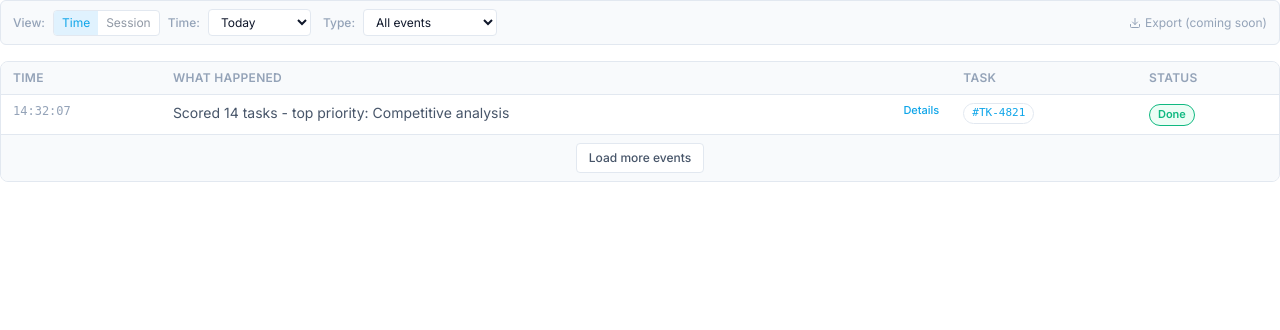
Test case: ActivityFeed › opens raw event drawer when details is clicked
Click the button "Details".
click(921, 111)  # box [903,103,939,119]
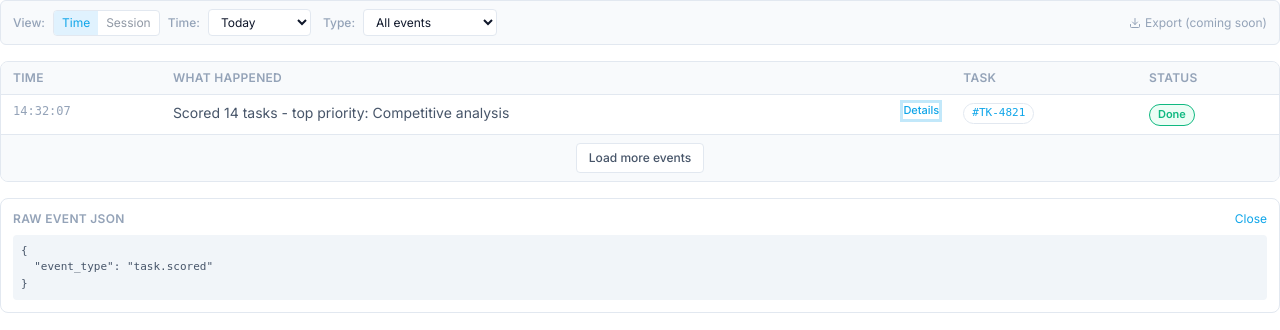
Now the element with test id "activity-raw-drawer" is shown, box [0,198,1279,313]
Now the text "Raw event JSON" is shown, box [13,211,125,227]
